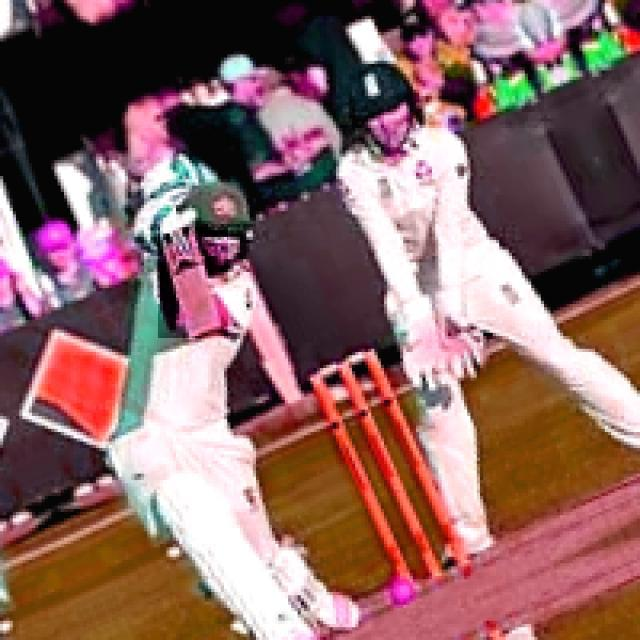bat: (161, 230, 226, 341)
toe: (191, 321, 224, 340)
